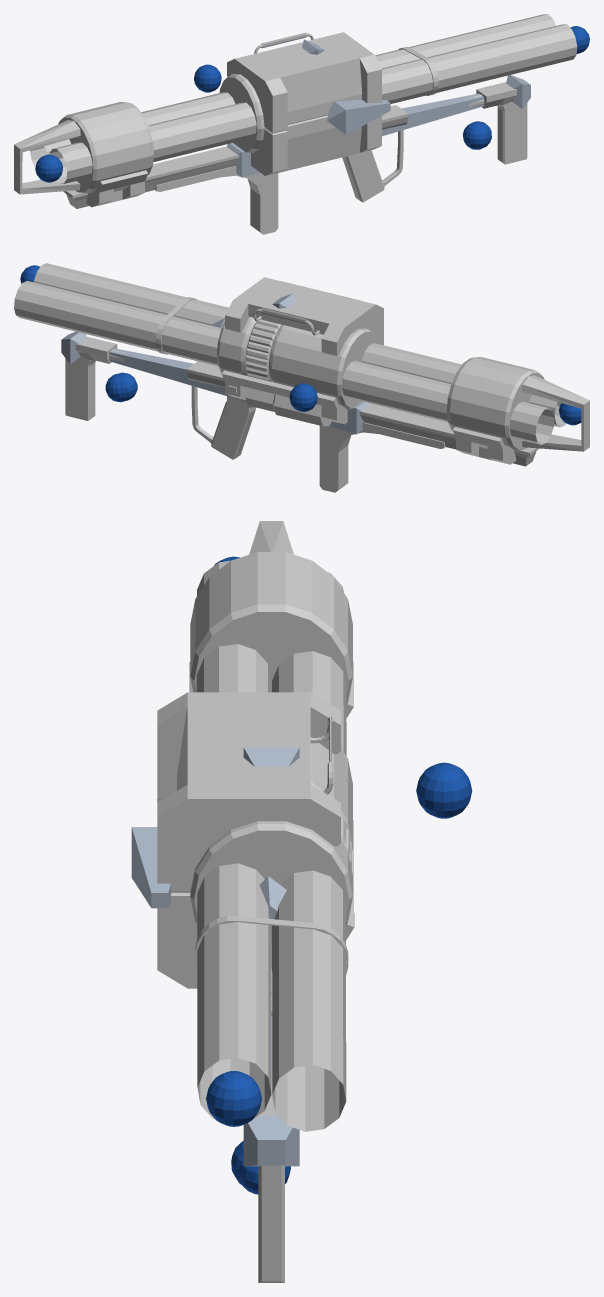
The model's file is FPRocket Launcher.obj.
The picture shows the model from 3 angles, top to bottom: view 1: azimuth 30°, elevation 25°; view 2: azimuth 150°, elevation 25°; view 3: azimuth 270°, elevation 25°; orthographic projection. The views are drawn at different scales.
Visible parts, largest first — view 1: __unnamed, frame_gun, frame_body, _flashlight, _primary_ejection, _left_hand_marine, frame_foregrip, _primary_trigger; view 2: __unnamed, frame_gun, _flashlight, frame_foregrip, _primary_ejection, _left_hand_marine, _left_hand_cyborg; view 3: __unnamed, frame_foregrip, _flashlight, _primary_trigger, frame_body, frame_push_bar.
Boxes of the visible parts, x1,y1,x2,y2 form: __unnamed: [14, 14, 577, 234]; frame_gun: [227, 93, 483, 177]; frame_body: [327, 100, 390, 134]; _flashlight: [194, 64, 221, 92]; _primary_ejection: [35, 154, 62, 182]; _left_hand_marine: [463, 122, 489, 149]; frame_foregrip: [506, 75, 530, 109]; _primary_trigger: [570, 26, 589, 53]; __unnamed: [14, 263, 589, 492]; frame_gun: [109, 348, 370, 434]; _flashlight: [289, 383, 317, 411]; frame_foregrip: [61, 331, 86, 364]; _primary_ejection: [559, 403, 581, 425]; _left_hand_marine: [117, 372, 137, 400]; _left_hand_cyborg: [105, 373, 124, 402]; __unnamed: [157, 521, 354, 1282]; frame_foregrip: [243, 1115, 299, 1166]; _flashlight: [416, 762, 472, 818]; _primary_trigger: [206, 1071, 261, 1126]; frame_body: [131, 827, 171, 908]; frame_push_bar: [243, 747, 299, 766].
Size of the model in its own units: 46.25 by 13.68 by 12.14.
